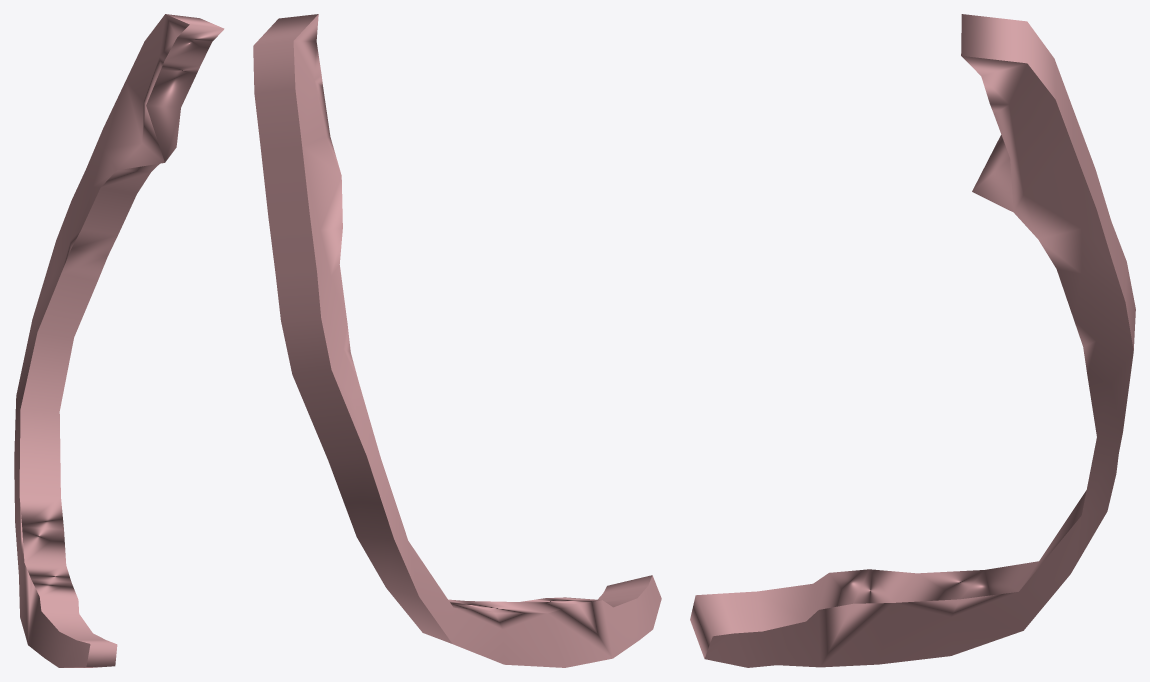
The picture shows the model from 3 angles, left to right: view 1: azimuth 30°, elevation 25°; view 2: azimuth 150°, elevation 25°; view 3: azimuth 270°, elevation 25°; orthographic projection. The views are drawn at different scales.
Parts seen in each view (by area): view 1: ZA_1027b54f0cbae892; view 2: ZA_1027b54f0cbae892; view 3: ZA_1027b54f0cbae892.
Boxes of the visible parts, x1,y1,x2,y2 form: ZA_1027b54f0cbae892: [14, 14, 224, 667]; ZA_1027b54f0cbae892: [253, 14, 661, 667]; ZA_1027b54f0cbae892: [690, 14, 1135, 667].
Bounding box in the file's own units: 0.0201 × 0.0426 × 0.0222.
